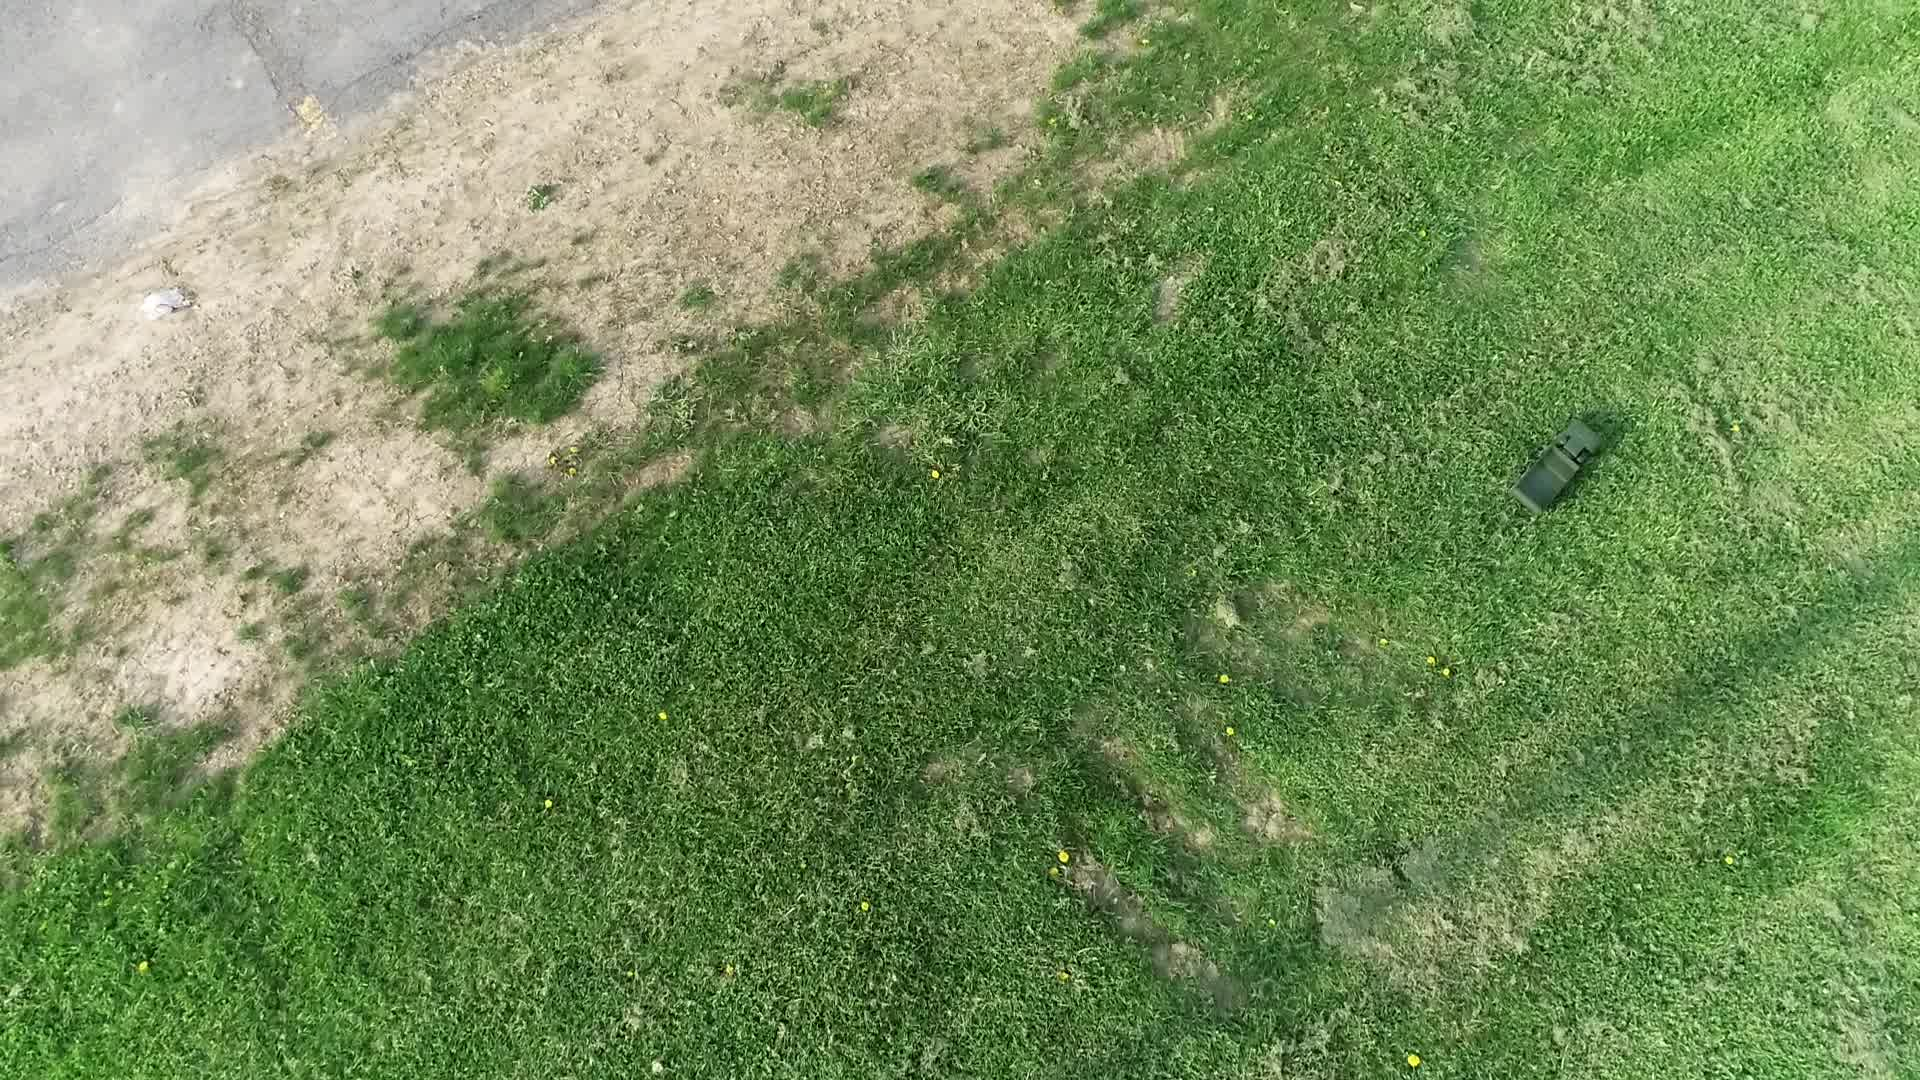transporter9: (1506, 407, 1605, 520)
